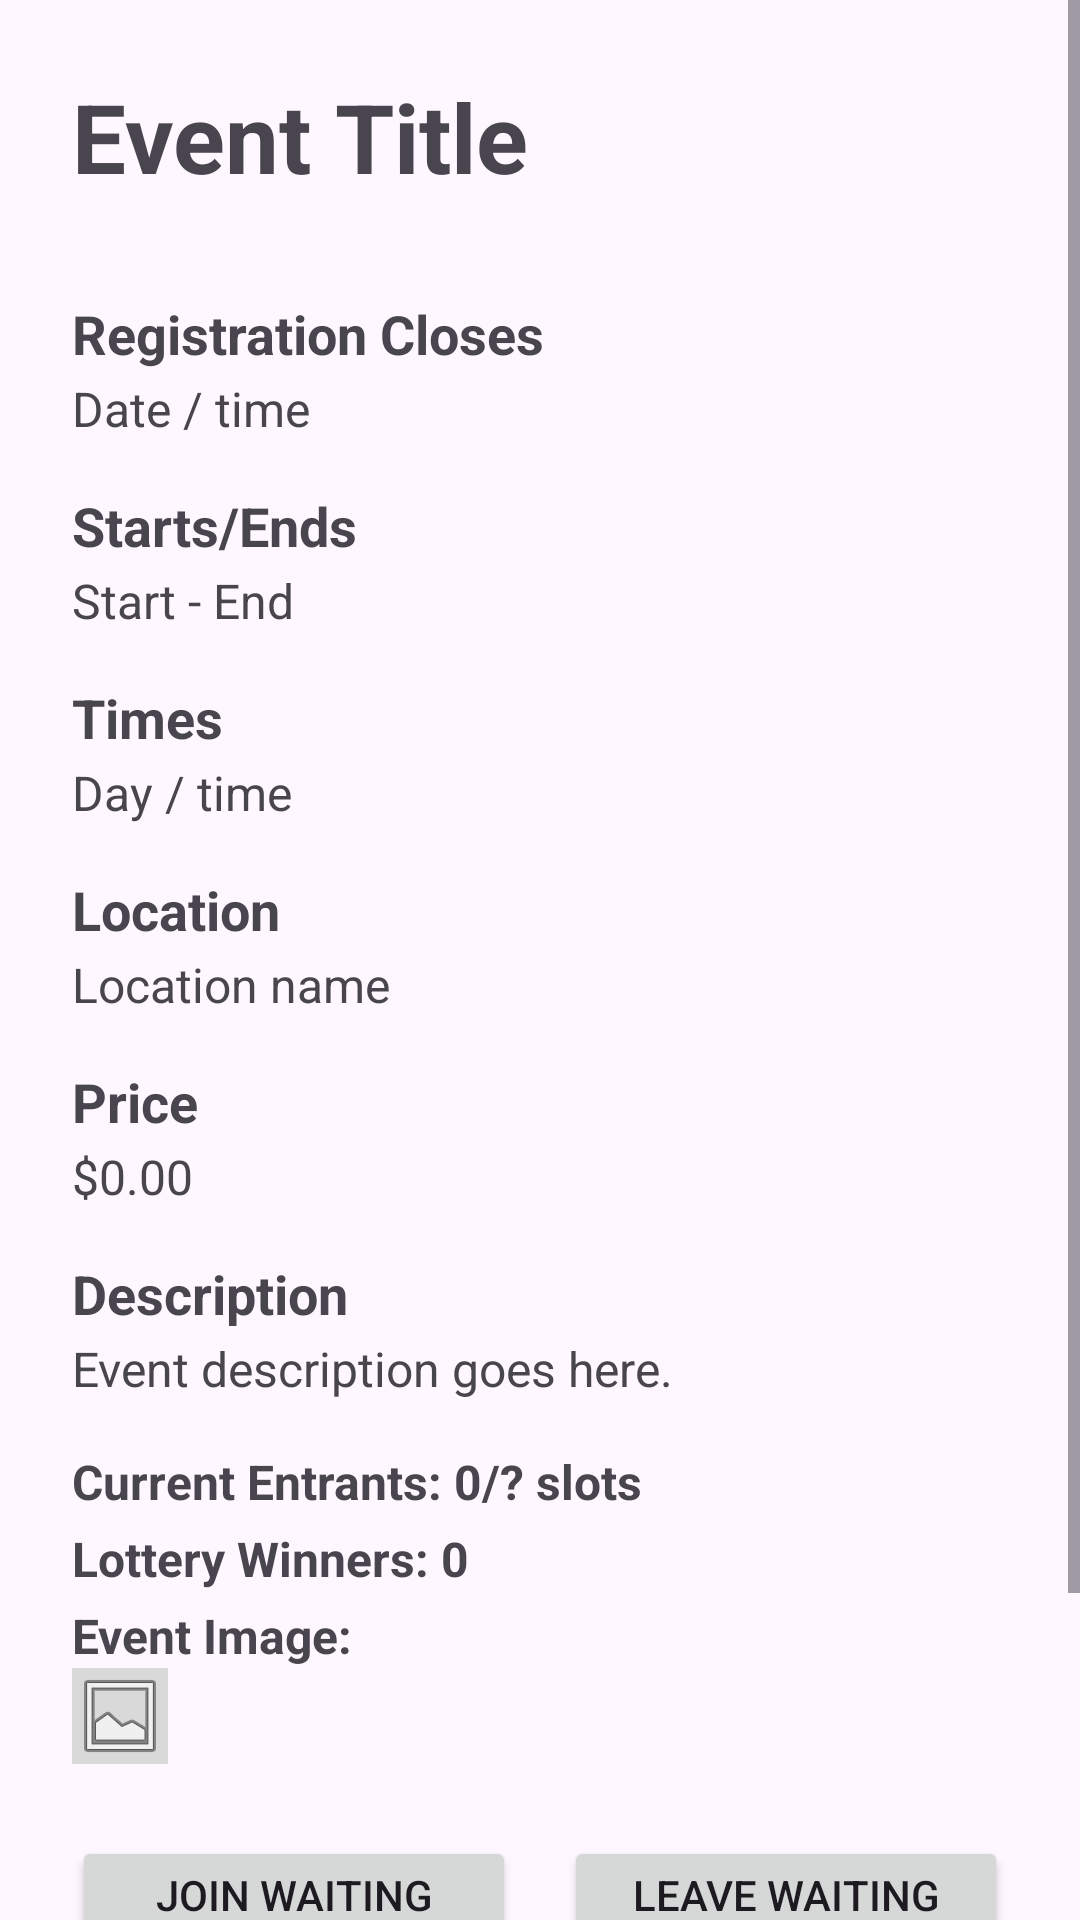

Icons on this 1080*1920 Android screen, each with its box as (x1, y1, x2, y2):
gallery: (72, 1668, 168, 1764)
